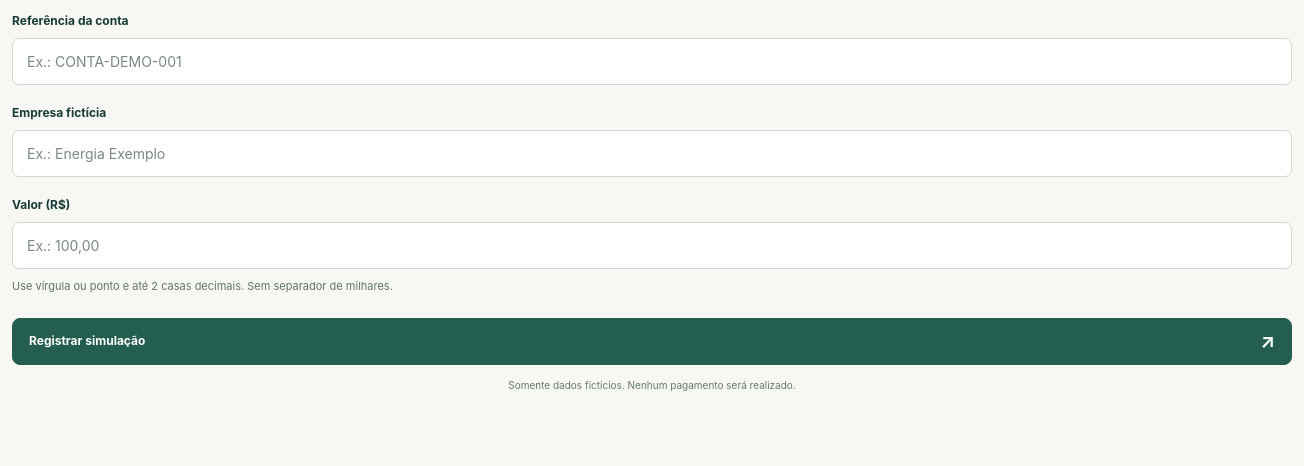
Test: Componente: FormularioPagamento › preserva os campos se o salvamento falhar e permite tentar novamente
Type "DEMO-001" into the field with id "codigoBarras" at [652, 62], box left=12, top=38, right=1292, bottom=85
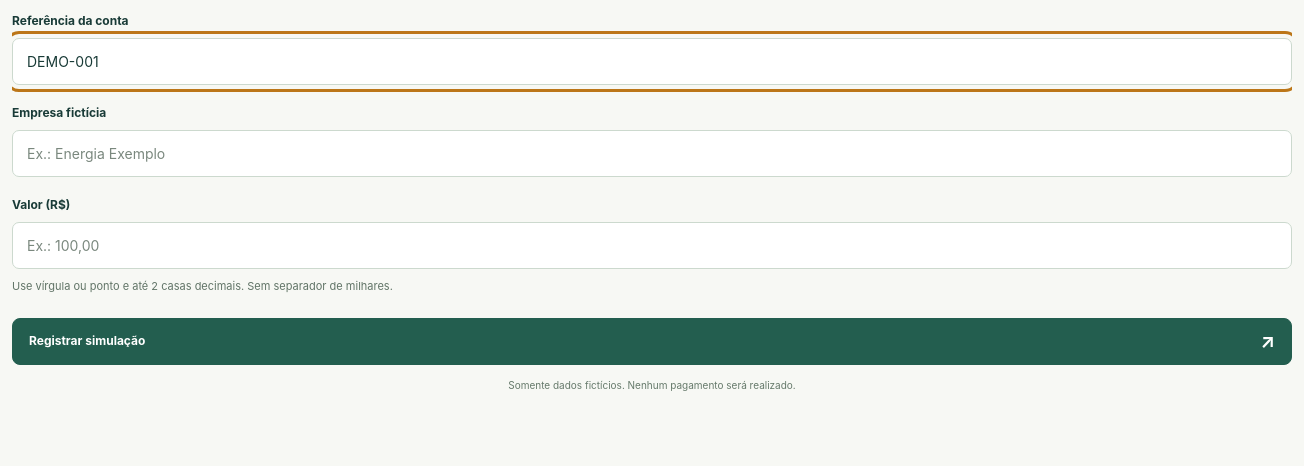
Type "Energia Exemplo" into the field with id "empresa" at [652, 154], box left=12, top=130, right=1292, bottom=177
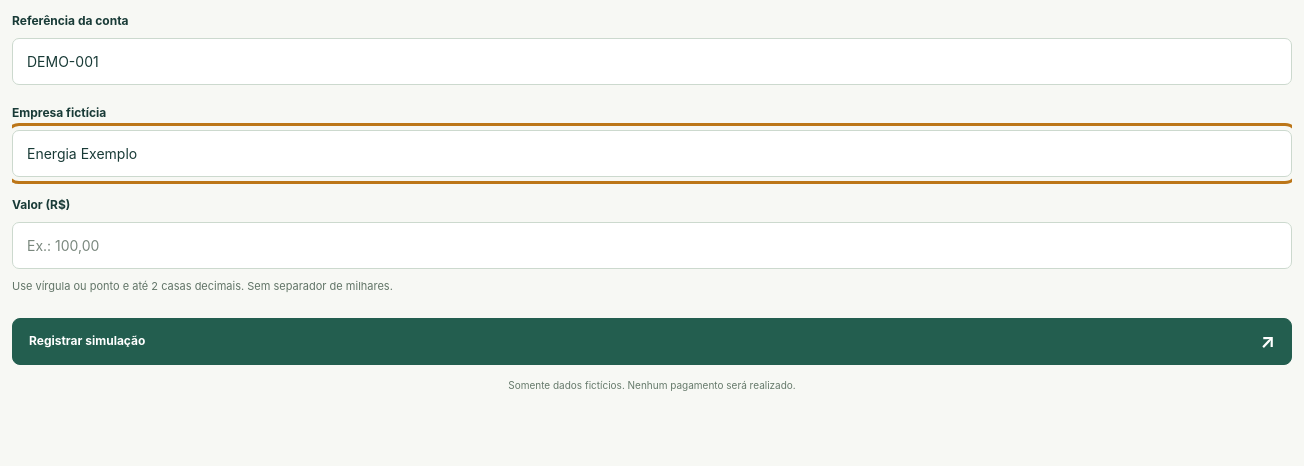
Type "100,01" into the field labelled "Valor (R$)" at [652, 246], box left=12, top=222, right=1292, bottom=269
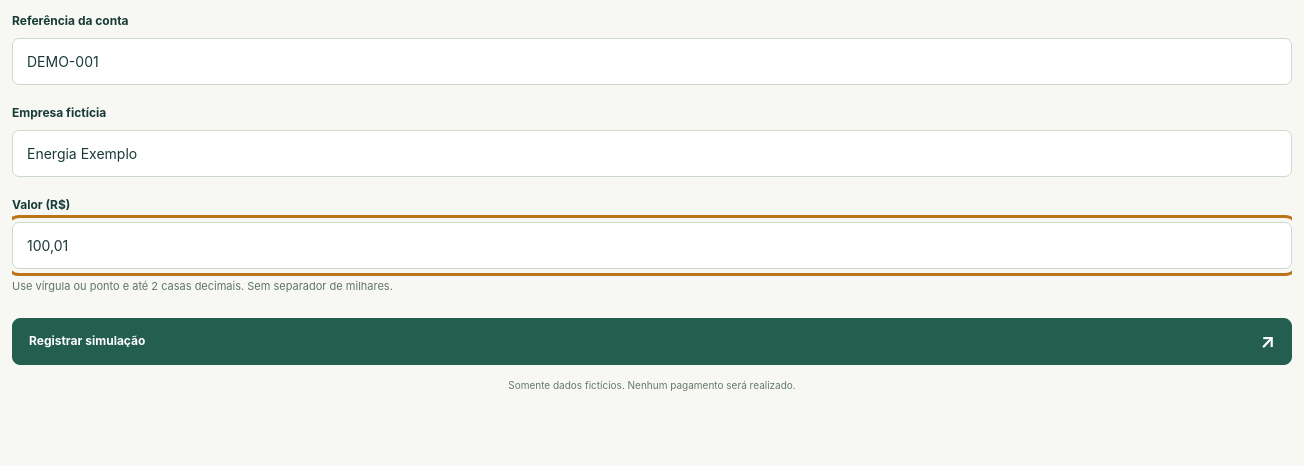
Click the button "Registrar simulação ↗" at [87, 341], box left=12, top=318, right=1292, bottom=365
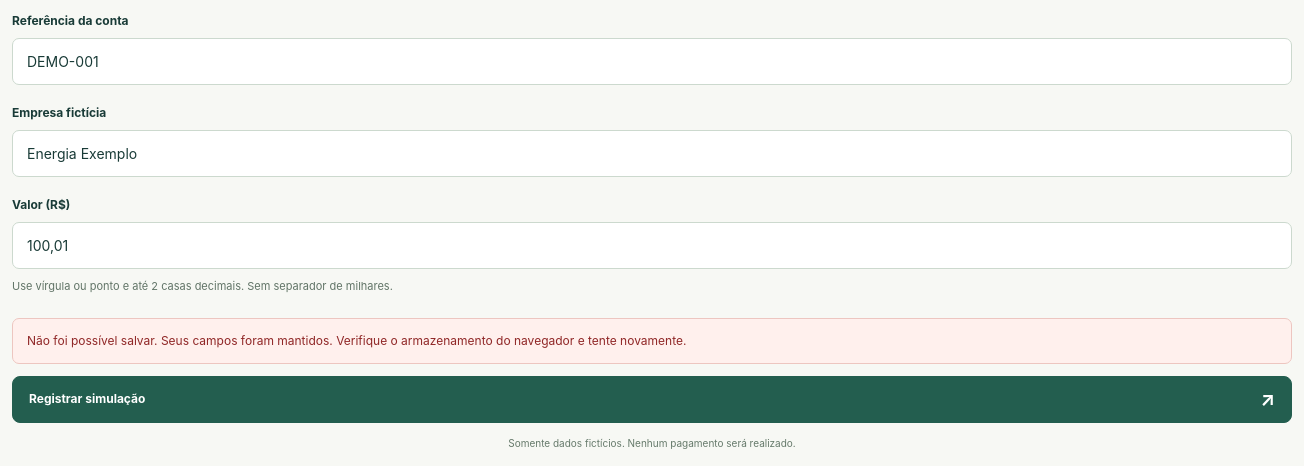
Check: the message shows "Não foi possível salvar", box left=27, top=333, right=686, bottom=348
Click the button "Registrar simulação ↗" at [87, 399], box left=12, top=376, right=1292, bottom=423
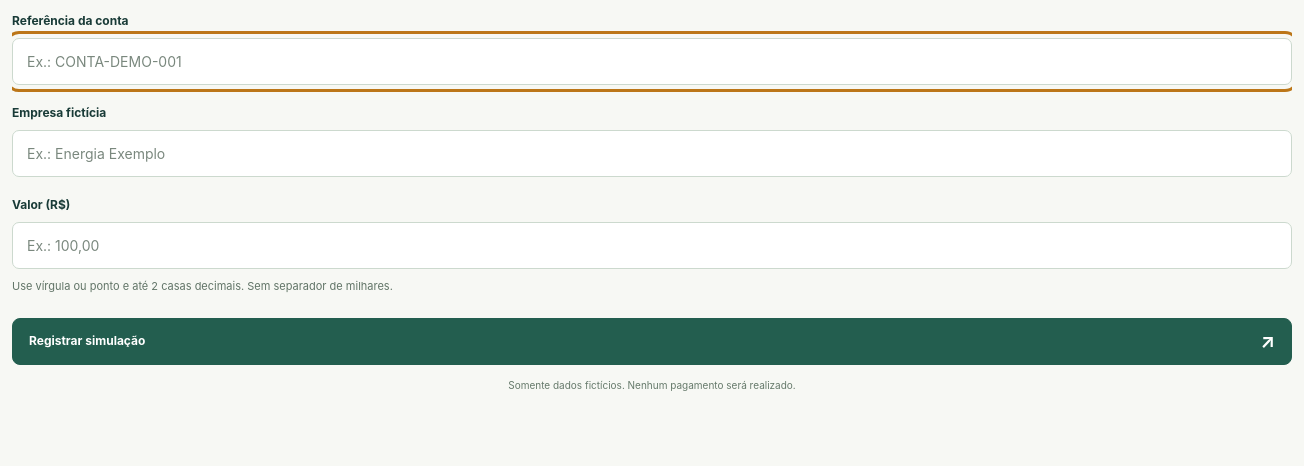
Check: the message is gone
